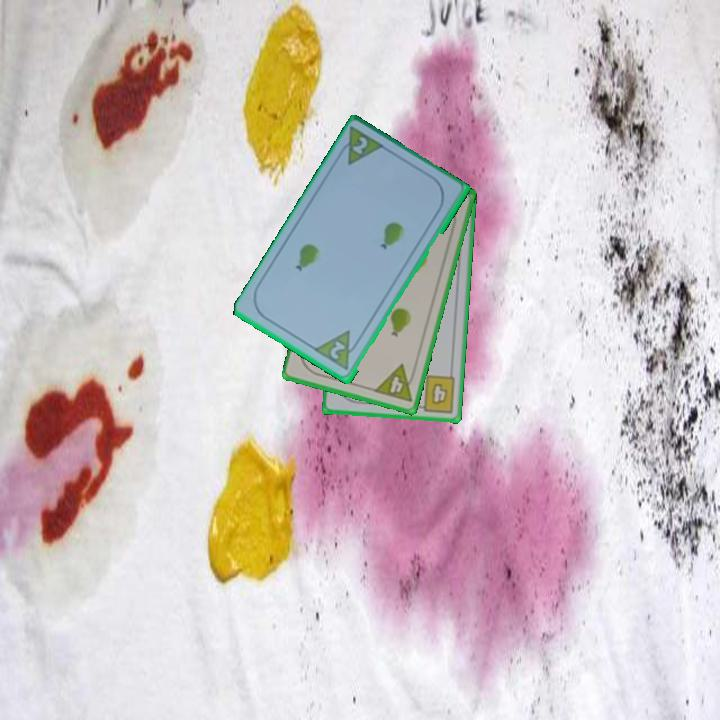2p: (326, 338, 349, 363), (349, 133, 371, 158)
4b: (413, 372, 458, 415)
4p: (371, 361, 420, 406)
